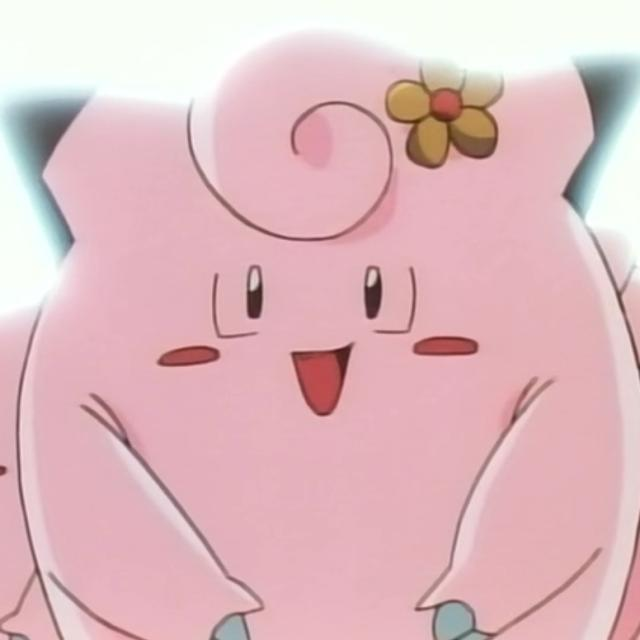Clefairy: (20, 54, 636, 640)
